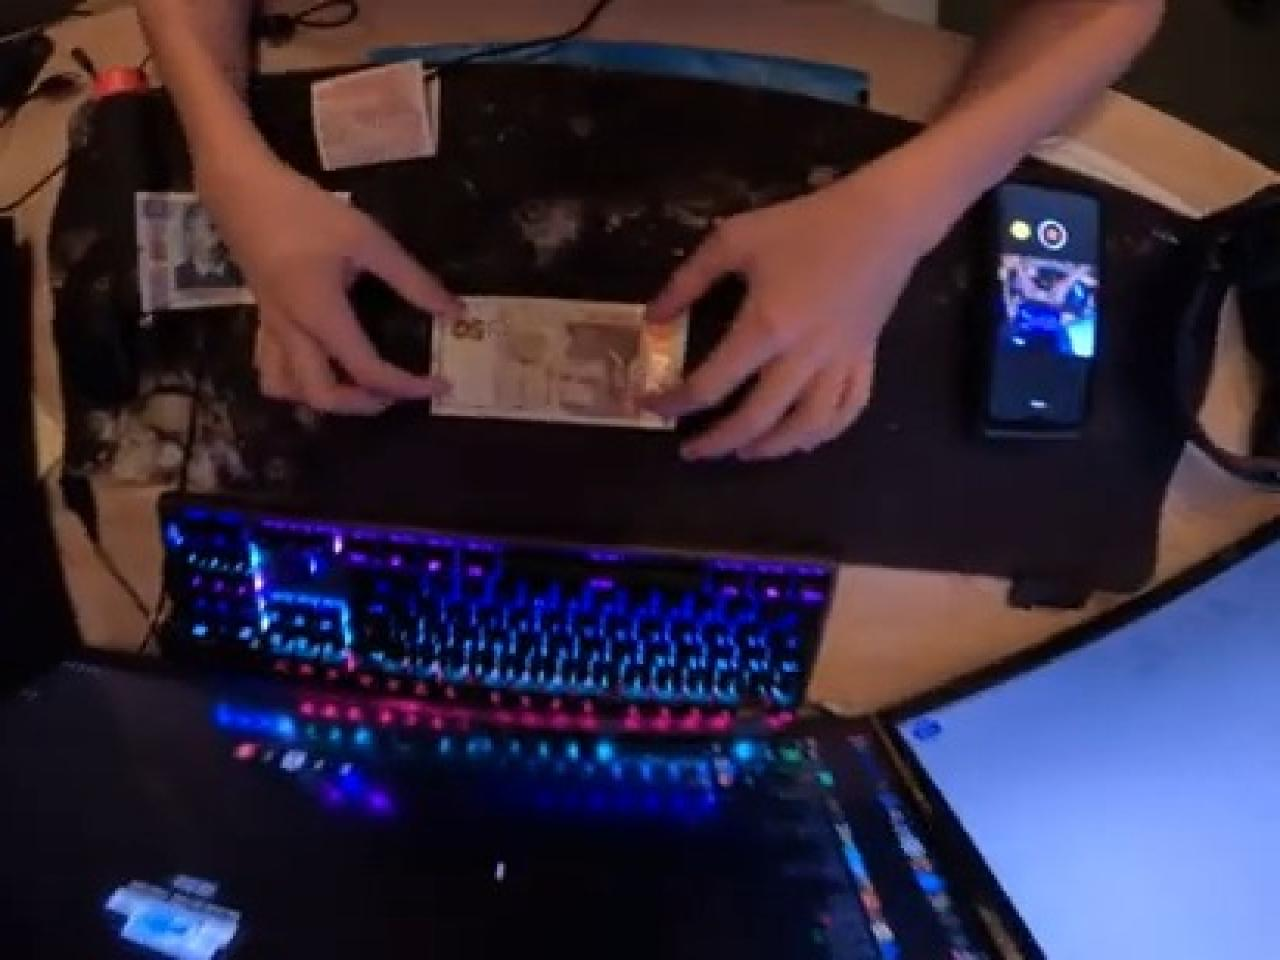50leva: (435, 290, 668, 427)
